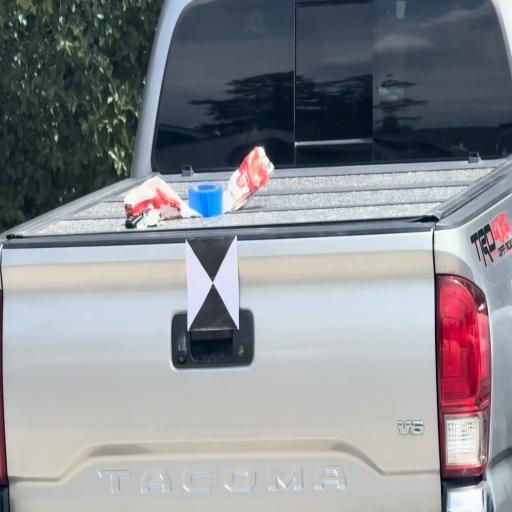target: (186, 239, 238, 328)
